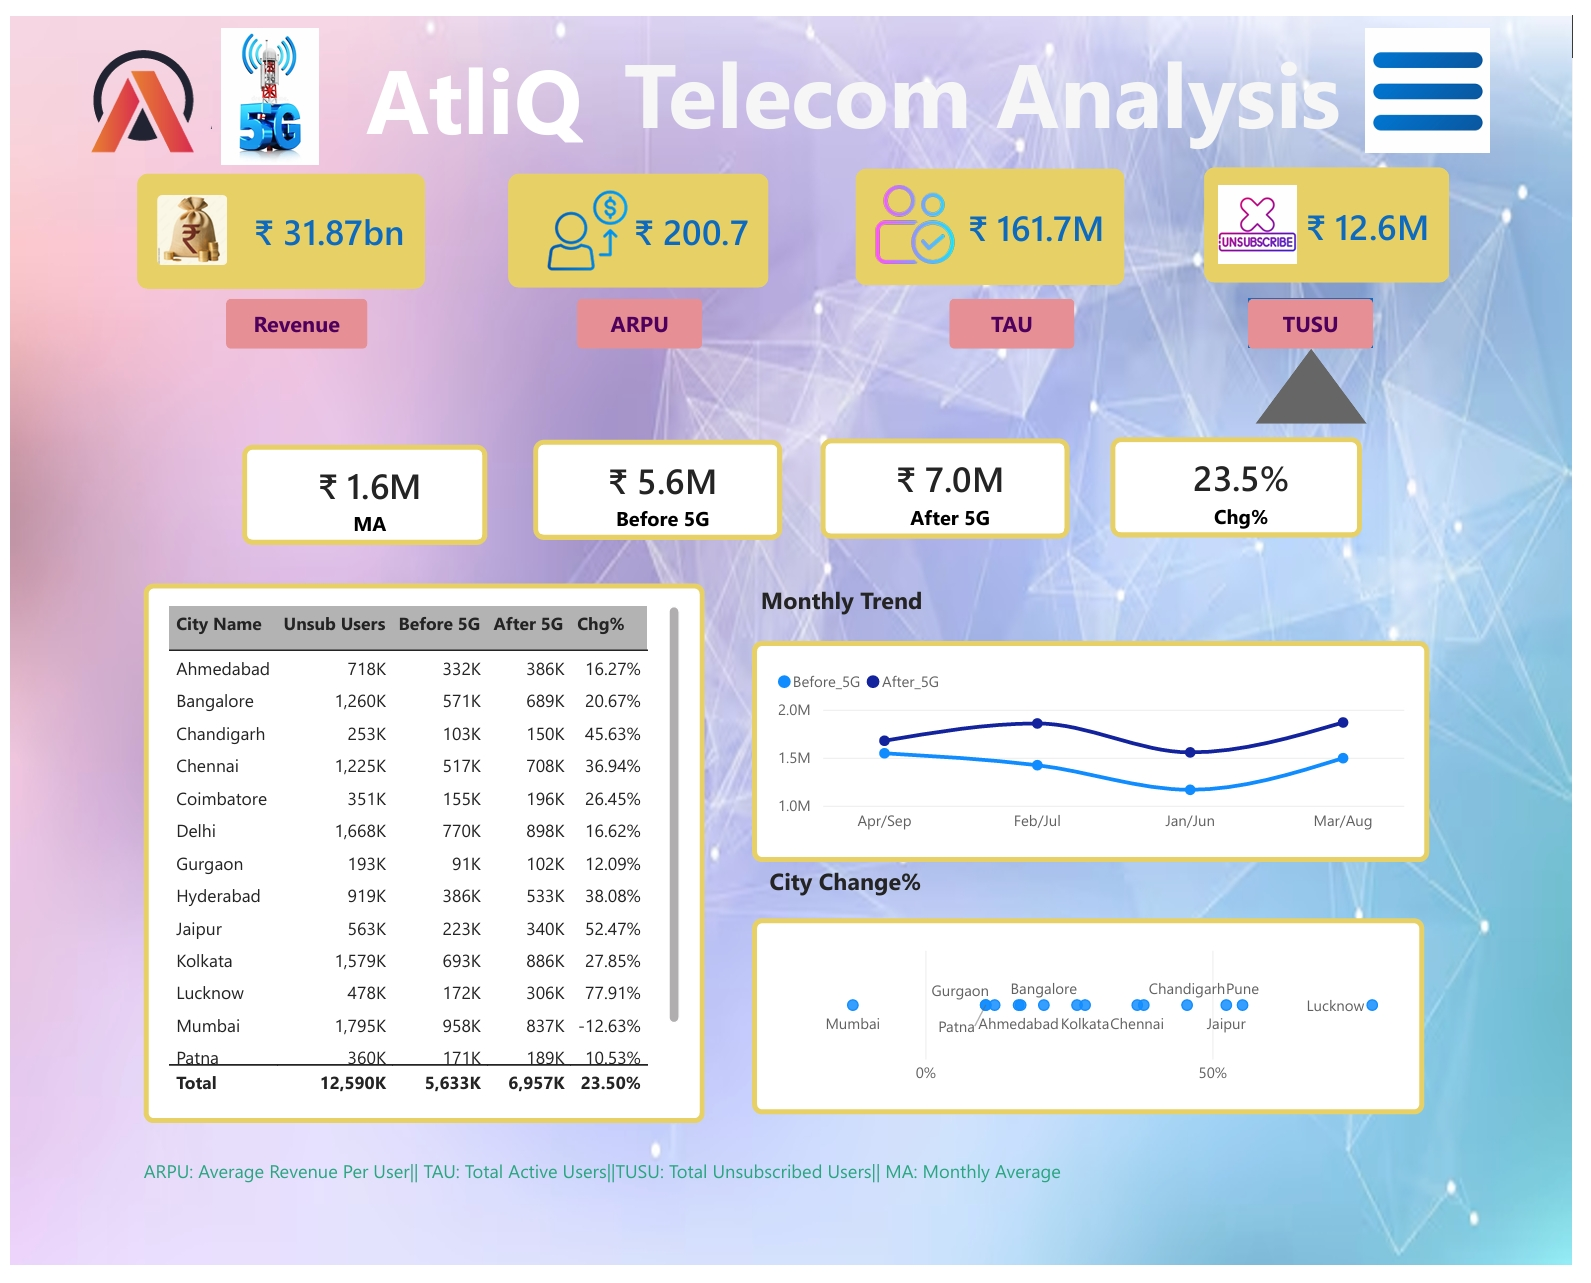

The dashboard page shown, as its layout file describes it:
{"tool":"powerbi","page":{"name":"Main Page","canvas":[1250,1000],"ordinal":0},"visuals":[{"type":"actionButton","title":"Revenue Button","box":[173,226,112.5,40.3],"z":0},{"type":"shape","title":"Rectangle Shape","box":[51,295.4,1100,618.6],"z":0,"group":"g1"},{"type":"cardVisual","title":"Revenue Card","fields":{"Data":["Mesaure_Table.Total Revenue"]},"box":[102.5,125.9,229.1,91.7],"z":1000},{"type":"shape","title":"Triangle Shape","box":[997,266,88.8,60.4],"z":1000,"group":"g1"},{"type":"cardVisual","title":"ARPU Card","fields":{"Data":["Mesaure_Table.ARPU"]},"box":[398.8,125.9,208.6,91.4],"z":2000},{"type":"cardVisual","title":"Card1","fields":{"Data":["Mesaure_Table.Average_monthly_unsub_users"]},"box":[185.7,342.8,196.2,80.1],"z":2000,"group":"g1"},{"type":"cardVisual","title":"Card2","fields":{"Data":["Mesaure_Table.Unsub_users_Before_5G"]},"box":[419.4,338.9,198.8,80.1],"z":3000,"group":"g1"},{"type":"cardVisual","title":"Card3","fields":{"Data":["Mesaure_Table.Unsub_users_After_5G"]},"box":[649.4,337.6,198.8,80.1],"z":4000,"group":"g1"},{"type":"actionButton","title":"ARPU Button","box":[454.3,225.9,100,40],"z":5000},{"type":"cardVisual","title":"Card3","fields":{"Data":["Mesaure_Table.Unsub_users_chg%"]},"box":[880.7,336.9,201.2,80.1],"z":5000,"group":"g1"},{"type":"cardVisual","title":"TAU Card","fields":{"Data":["Mesaure_Table.Total_Active_Users"]},"box":[677,122,215,92.5],"z":6000},{"type":"tableEx","fields":{"Values":["dim_cities.city_name","Mesaure_Table.Total_unsub_users","Mesaure_Table.Unsub_users_Before_5G","Mesaure_Table.Unsub_users_After_5G","Mesaure_Table.Unsub_users_chg%"]},"box":[107,454,449,432],"z":6000,"group":"g1"},{"type":"actionButton","title":"TAU Button","box":[752,226,100,40],"z":7000},{"type":"lineChart","fields":{"Category":["Month_Comparison.Month Name"],"Y":["Mesaure_Table.Unsub_users_Before_5G","Mesaure_Table.Unsub_users_After_5G"]},"box":[594,500,542.2,177.1],"z":7000,"group":"g1"},{"type":"textbox","title":"Month Text","box":[601,454,216,34],"z":8000,"group":"g1"},{"type":"actionButton","title":"TUSU Button","box":[991,226,100,40],"z":9000},{"type":"scatterChart","fields":{"Category":["dim_cities.city_name"],"X":["Mesaure_Table.Unsub_users_chg%"]},"box":[594,722,538,157],"z":9000,"group":"g1"},{"type":"cardVisual","title":"TUSU Card","fields":{"Data":["Mesaure_Table.Total_unsub_users"]},"box":[955.6,121,196.2,92.5],"z":10000},{"type":"textbox","title":"City Text","box":[608,679,246,29],"z":10000,"group":"g1"},{"type":"group","id":"g1","title":"TUSU_Popup","box":[51,266,1100,648],"z":11000},{"type":"textbox","box":[386,11,765,108],"z":12000},{"type":"textbox","box":[498.8,266.2,56.2,35],"z":13000},{"type":"image","box":[426,129,72.5,85],"z":14000},{"type":"image","box":[664,116,121.2,101.2],"z":15000},{"type":"image","box":[955.6,134.6,85,63.8],"z":16000},{"type":"image","box":[102.5,9.9,211.2,108.8],"z":17000},{"type":"image","title":"atliq","box":[42,14.8,120.3,105.4],"z":18000},{"type":"actionButton","box":[256.8,9.9,229.6,109.9],"z":19000},{"type":"image","title":"Main3 Image","box":[1084,9.9,102.5,100],"z":21000},{"type":"textbox","box":[107,914,1028,26],"z":22000}]}

Visuals, with their boxes in screenshot pixels (x1, y1, x2, y2), scaled from the page's 1250x1000 canvas onto the 1591x1283 screenshot:
"Revenue Button" actionButton: detection(220, 290, 363, 342)
"Rectangle Shape" shape: detection(65, 379, 1465, 1173)
"Revenue Card" cardVisual: detection(130, 162, 422, 279)
"Triangle Shape" shape: detection(1269, 341, 1382, 419)
"ARPU Card" cardVisual: detection(508, 162, 773, 279)
"Card1" cardVisual: detection(236, 440, 486, 543)
"Card2" cardVisual: detection(534, 435, 787, 538)
"Card3" cardVisual: detection(827, 433, 1080, 536)
"ARPU Button" actionButton: detection(578, 290, 706, 341)
"Card3" cardVisual: detection(1121, 432, 1377, 535)
"TAU Card" cardVisual: detection(862, 157, 1135, 275)
tableEx - dim_cities.city_name x Mesaure_Table.Total_unsub_users: detection(136, 582, 708, 1137)
"TAU Button" actionButton: detection(957, 290, 1084, 341)
lineChart - Month_Comparison.Month Name x Mesaure_Table.Unsub_users_Before_5G: detection(756, 642, 1446, 869)
"Month Text" textbox: detection(765, 582, 1040, 626)
"TUSU Button" actionButton: detection(1261, 290, 1389, 341)
scatterChart - dim_cities.city_name x Mesaure_Table.Unsub_users_chg%: detection(756, 926, 1441, 1128)
"TUSU Card" cardVisual: detection(1216, 155, 1466, 274)
"City Text" textbox: detection(774, 871, 1087, 908)
"TUSU_Popup" group: detection(65, 341, 1465, 1173)
textbox: detection(491, 14, 1465, 153)
textbox: detection(635, 342, 706, 386)
image: detection(542, 166, 634, 275)
image: detection(845, 149, 999, 279)
image: detection(1216, 173, 1324, 255)
image: detection(130, 13, 399, 152)
"atliq" image: detection(53, 19, 207, 154)
actionButton: detection(327, 13, 619, 154)
"Main3 Image" image: detection(1380, 13, 1510, 141)
textbox: detection(136, 1173, 1445, 1206)
